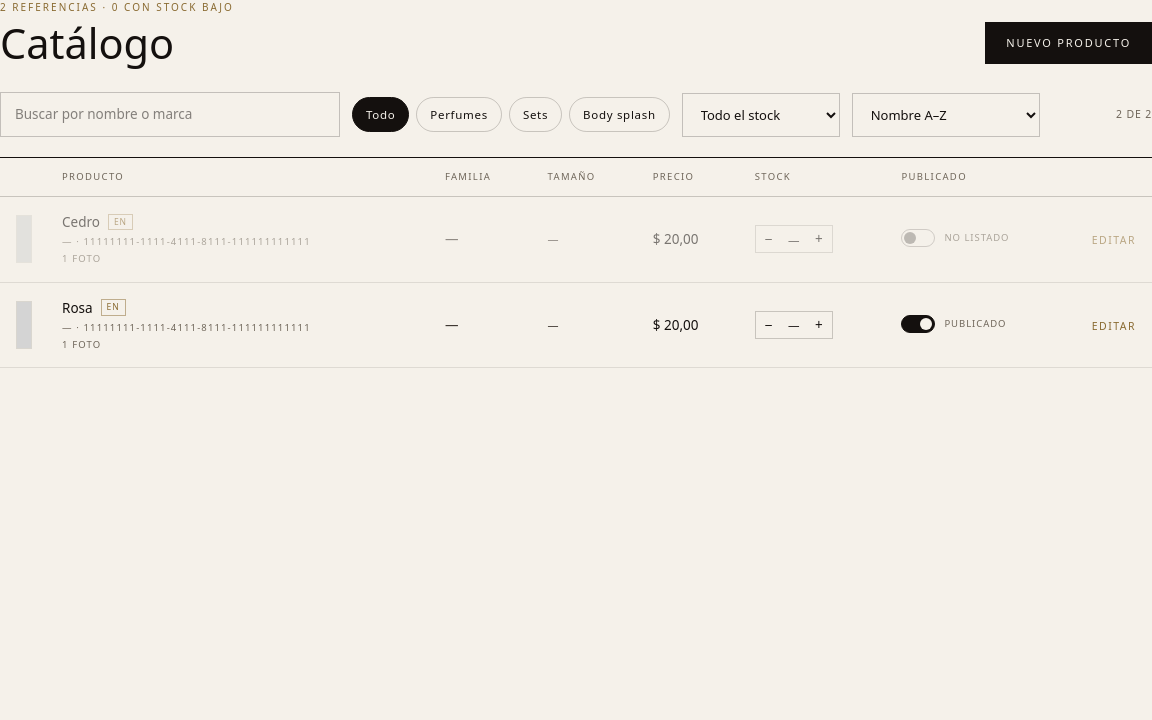
Test case: catalog list › opens the edit drawer and patches only visibility
Click the button "Publicado" at point(954, 325), box [901, 315, 1006, 335]
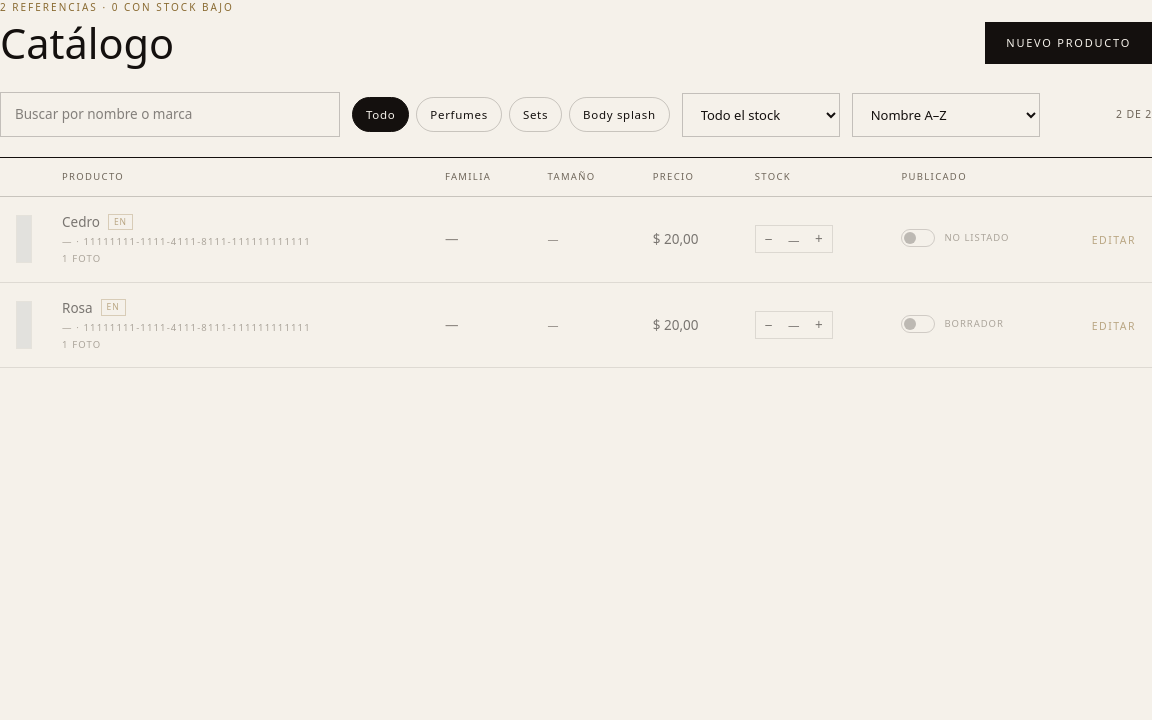
Click the button with aria-label "Publicado" at point(955, 239), box [901, 229, 1010, 250]
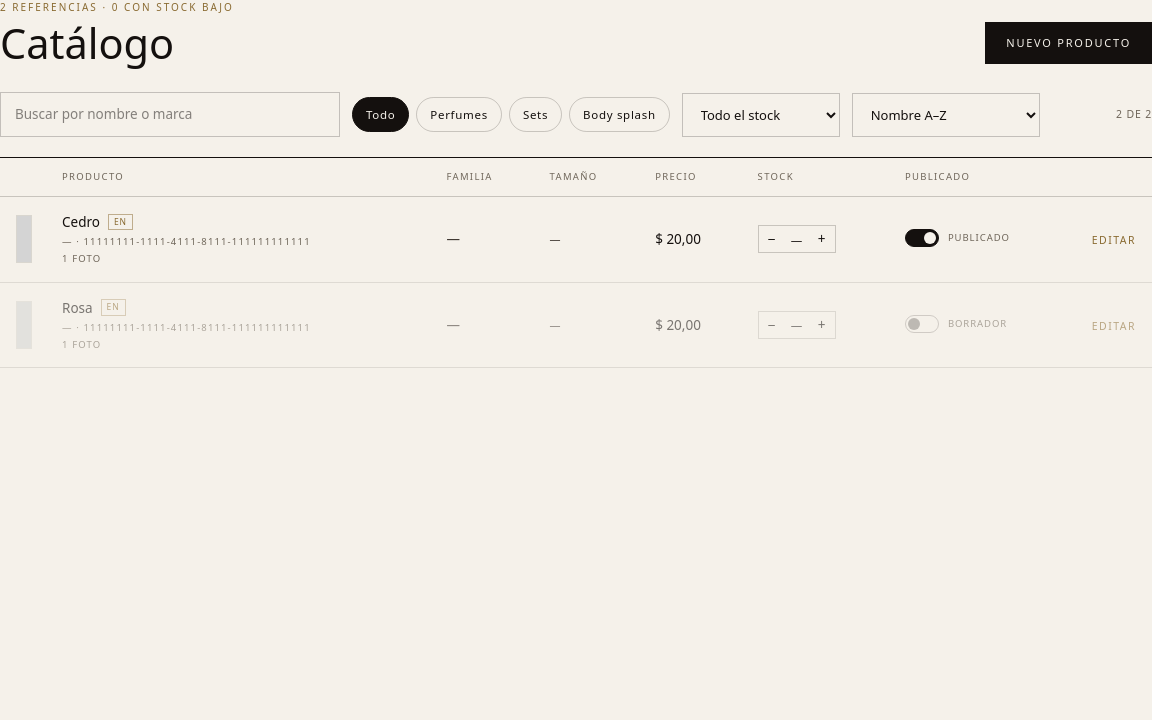
Click the 2nd button "Editar" at point(1114, 327), box [1092, 319, 1136, 335]
(page scrolled)
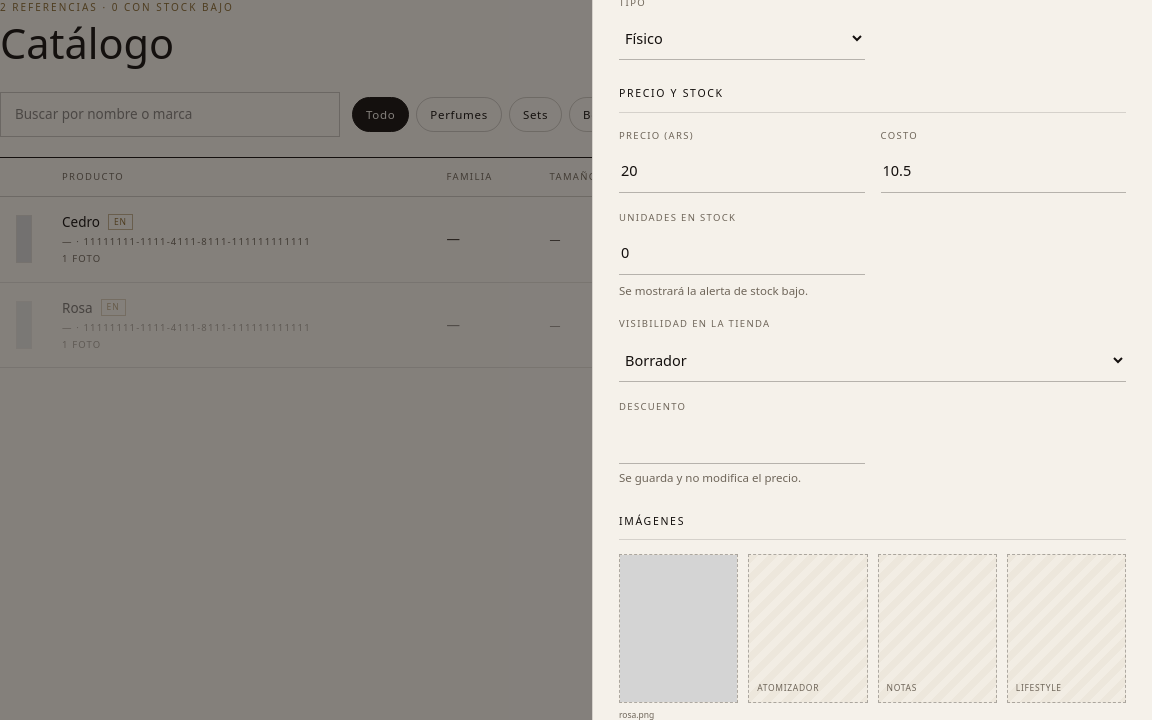
Check: the field named "Precio" holds "20", box [619, 150, 864, 193]
Check: the dropdown named "Visibilidad" shows "Borrador", box [619, 338, 1126, 382]
